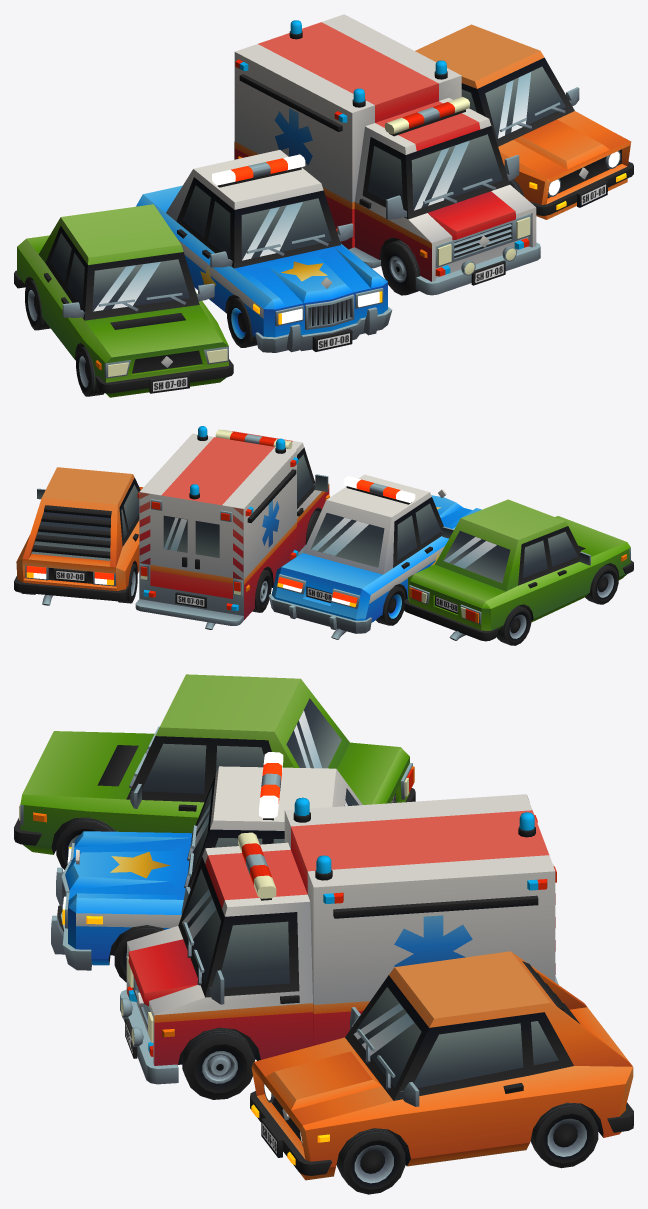
The picture shows the model from 3 angles, top to bottom: view 1: azimuth 30°, elevation 25°; view 2: azimuth 150°, elevation 25°; view 3: azimuth 270°, elevation 25°; orthographic projection. The views are drawn at different scales.
Visible parts, largest first — view 1: SHTV_Model_Car_Ambulance, SHTV_Model_Car_Police, SHTV_Model_Car_Sedan, SHTV_Model_Car_Hatchback, SHTV_Model_Wheel_Ambulance_FR, SHTV_Model_Wheel_Police_FR, SHTV_Model_Wheel_Sedan_FR, SHTV_Model_Wheel_Sedan_BR; view 2: SHTV_Model_Car_Ambulance, SHTV_Model_Car_Sedan, SHTV_Model_Car_Police, SHTV_Model_Car_Hatchback, SHTV_Model_Wheel_Sedan_BR, SHTV_Model_Wheel_Sedan_FR, SHTV_Model_Wheel_Police_BR, SHTV_Model_Wheel_Ambulance_BR, SHTV_Model_Wheel_Hatchback_BR; view 3: SHTV_Model_Car_Ambulance, SHTV_Model_Car_Hatchback, SHTV_Model_Car_Sedan, SHTV_Model_Car_Police, SHTV_Model_Wheel_Ambulance_FL, SHTV_Model_Wheel_Hatchback_FL, SHTV_Model_Wheel_Hatchback_BL, SHTV_Model_Wheel_Sedan_FL, SHTV_Model_Wheel_Police_FL.
Part boxes in pixels (bbox=[...]): SHTV_Model_Car_Ambulance: bbox=[234, 14, 540, 295]; SHTV_Model_Car_Police: bbox=[136, 150, 392, 352]; SHTV_Model_Car_Sedan: bbox=[14, 204, 233, 397]; SHTV_Model_Car_Hatchback: bbox=[415, 24, 633, 219]; SHTV_Model_Wheel_Ambulance_FR: bbox=[381, 239, 420, 295]; SHTV_Model_Wheel_Police_FR: bbox=[227, 297, 257, 347]; SHTV_Model_Wheel_Sedan_FR: bbox=[76, 346, 104, 396]; SHTV_Model_Wheel_Sedan_BR: bbox=[25, 280, 50, 330]; SHTV_Model_Car_Ambulance: bbox=[135, 426, 329, 629]; SHTV_Model_Car_Sedan: bbox=[404, 499, 633, 641]; SHTV_Model_Car_Police: bbox=[268, 474, 481, 639]; SHTV_Model_Car_Hatchback: bbox=[14, 467, 142, 605]; SHTV_Model_Wheel_Sedan_BR: bbox=[496, 605, 531, 645]; SHTV_Model_Wheel_Sedan_FR: bbox=[585, 564, 618, 604]; SHTV_Model_Wheel_Police_BR: bbox=[376, 585, 405, 625]; SHTV_Model_Wheel_Ambulance_BR: bbox=[252, 569, 271, 612]; SHTV_Model_Wheel_Hatchback_BR: bbox=[118, 563, 137, 603]; SHTV_Model_Car_Ambulance: bbox=[120, 794, 558, 1084]; SHTV_Model_Car_Hatchback: bbox=[250, 951, 633, 1180]; SHTV_Model_Car_Sedan: bbox=[14, 674, 415, 854]; SHTV_Model_Car_Police: bbox=[51, 752, 362, 970]; SHTV_Model_Wheel_Ambulance_FL: bbox=[182, 1027, 254, 1099]; SHTV_Model_Wheel_Hatchback_FL: bbox=[337, 1128, 405, 1194]; SHTV_Model_Wheel_Hatchback_BL: bbox=[530, 1102, 598, 1168]; SHTV_Model_Wheel_Sedan_FL: bbox=[56, 817, 115, 869]; SHTV_Model_Wheel_Police_FL: bbox=[114, 925, 164, 982].
Size of the model in its own units: 10.34 by 2.71 by 6.74.
Materials: 5 (5 with a texture image).
